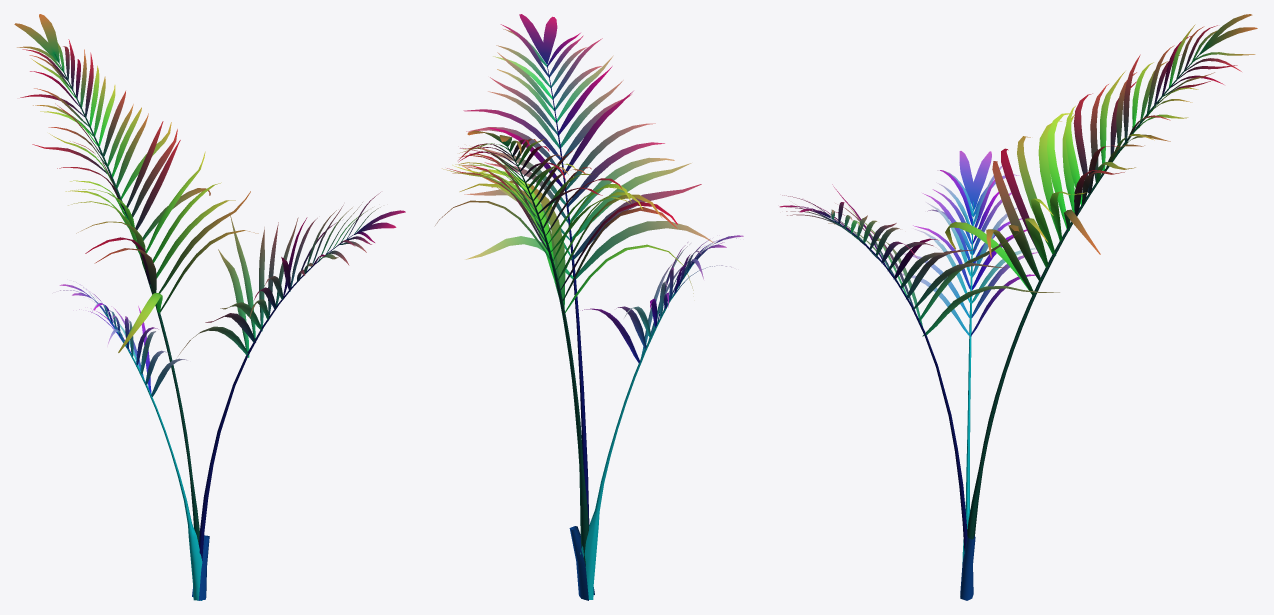
The model's file is ukgkcilia_VarB_LOD1.fbx.
3 views of the same model, side by side, from view 1: azimuth 30°, elevation 25°; view 2: azimuth 150°, elevation 25°; view 3: azimuth 270°, elevation 25° (orthographic). The views are drawn at different scales.
Parts seen in each view (by area): view 1: _1cj5_VarB_LOD2; view 2: _1cj5_VarB_LOD2; view 3: _1cj5_VarB_LOD2.
Part boxes in pixels (bbox=[...]): _1cj5_VarB_LOD2: bbox=[14, 14, 405, 600]; _1cj5_VarB_LOD2: bbox=[435, 14, 743, 600]; _1cj5_VarB_LOD2: bbox=[779, 14, 1257, 600].
Bounding box in the file's own units: 95.85 × 173 × 137.
